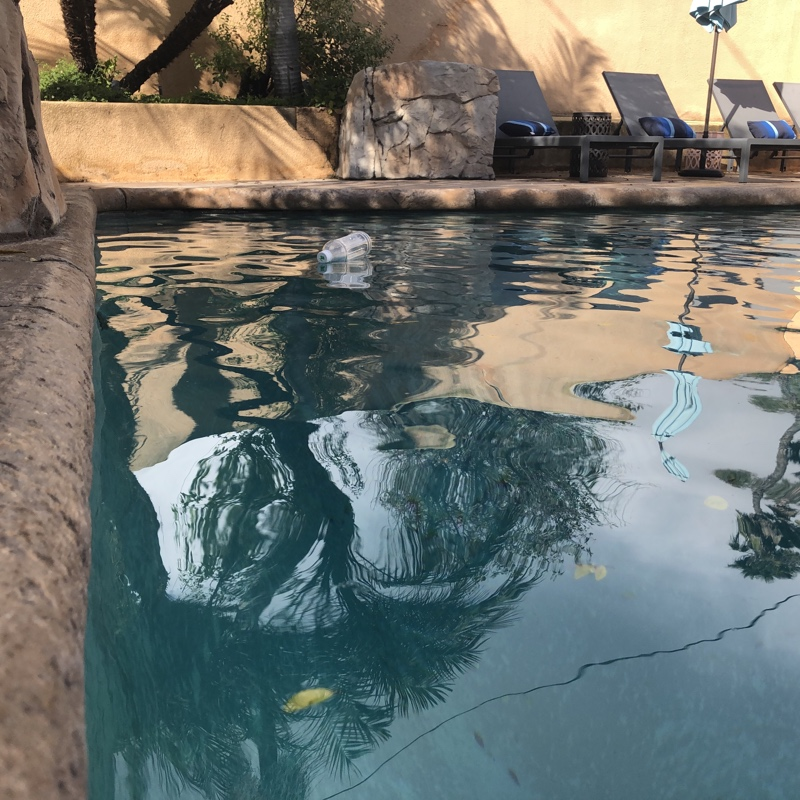Plastic Bottle: (314, 233, 374, 266)
